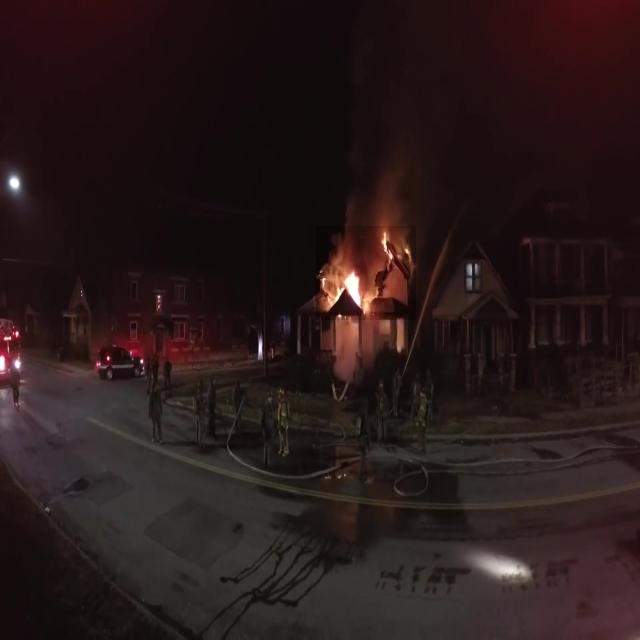Fire: (316, 226, 416, 320)
